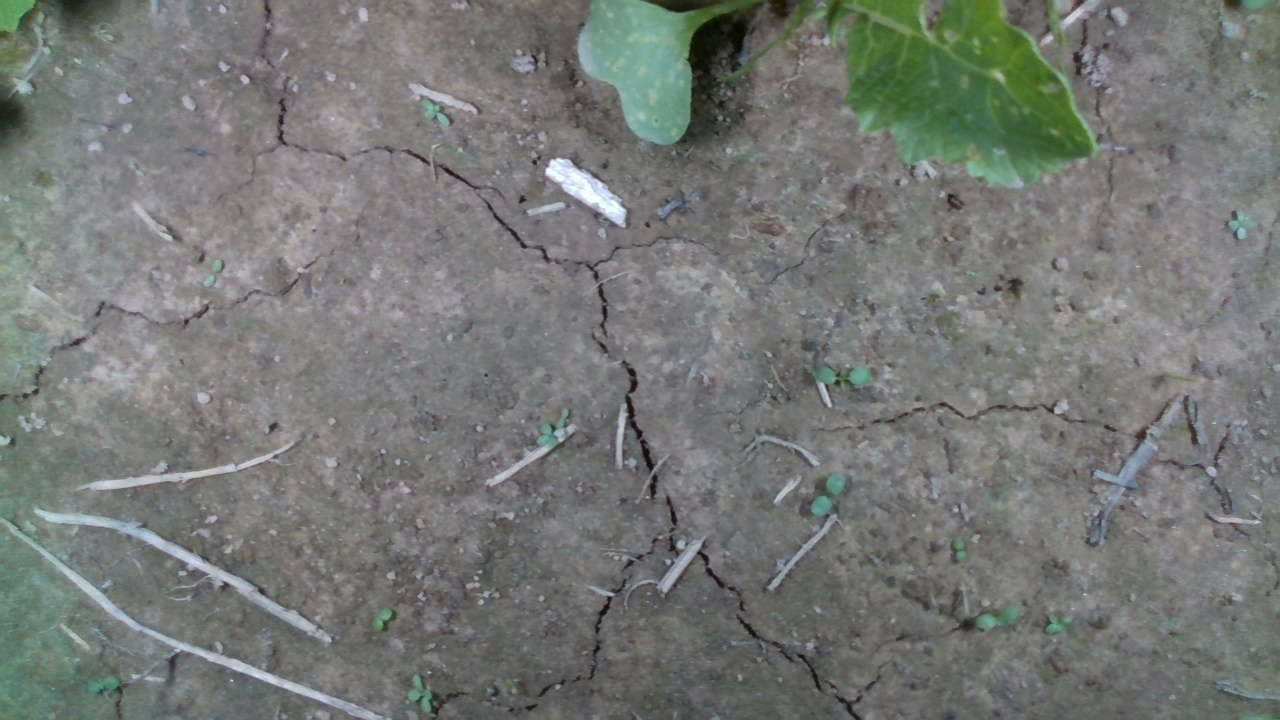weed: (813, 364, 872, 390)
